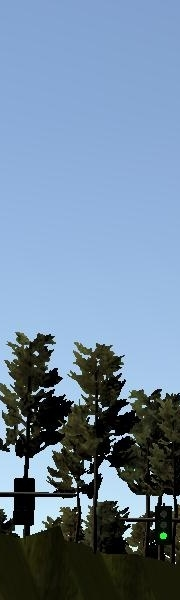Green: (153, 504, 177, 546)
